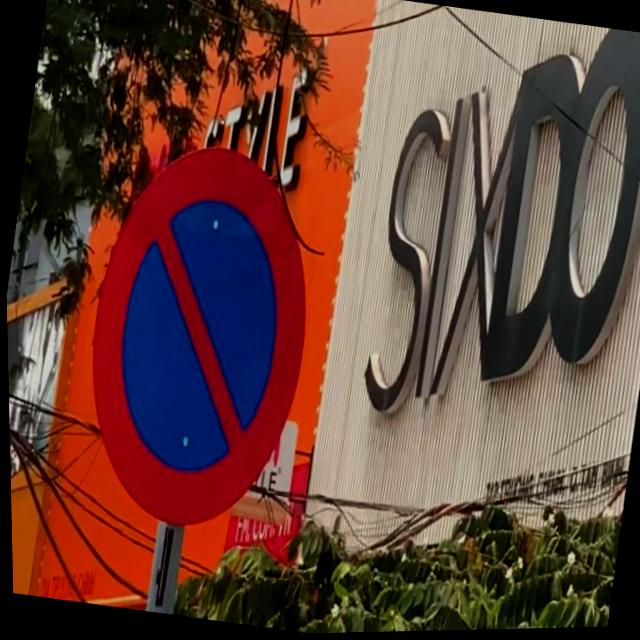Cam do xe: (61, 131, 335, 544)
